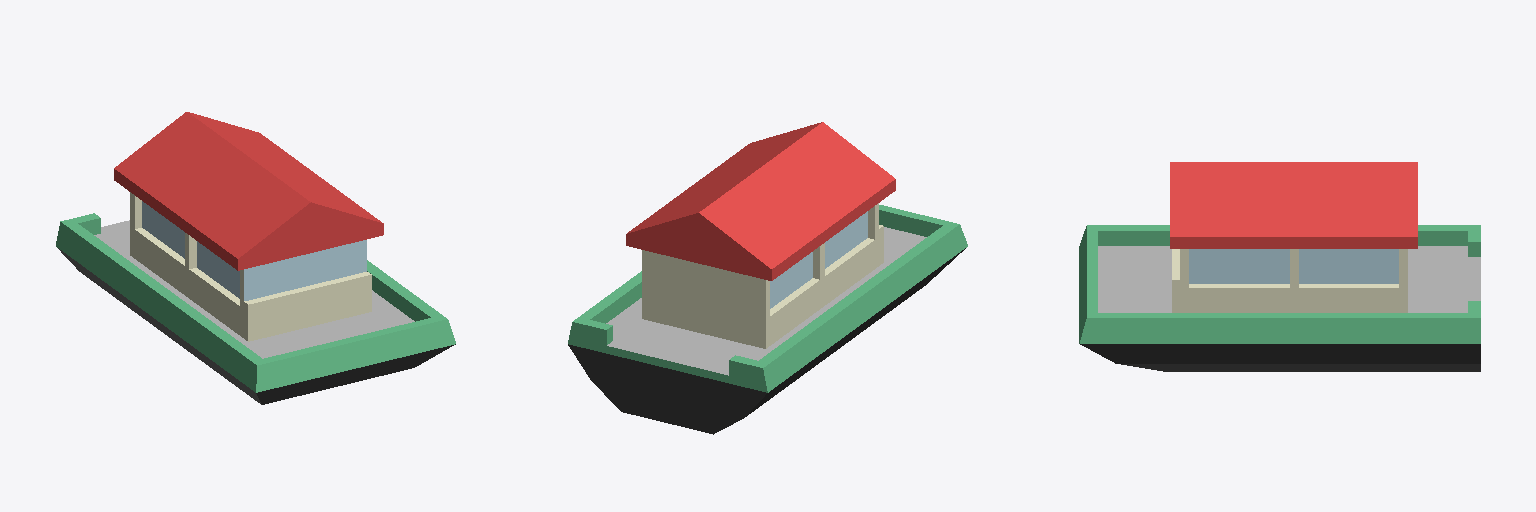
File: watercraftPack_025.obj
The picture shows the model from 3 angles: view 1: azimuth 30°, elevation 25°; view 2: azimuth 150°, elevation 25°; view 3: azimuth 270°, elevation 25°; orthographic projection.
Parts seen in each view (by area): view 1: Mesh1 Group1 Model; view 2: Mesh1 Group1 Model; view 3: Mesh1 Group1 Model.
Boxes of the visible parts, box(x1,y1,x2,y2) form: Mesh1 Group1 Model: box(56, 112, 455, 404); Mesh1 Group1 Model: box(568, 122, 967, 434); Mesh1 Group1 Model: box(1079, 162, 1480, 371).
Bounding box in the file's own units: 2.68 × 2.4 × 4.64.